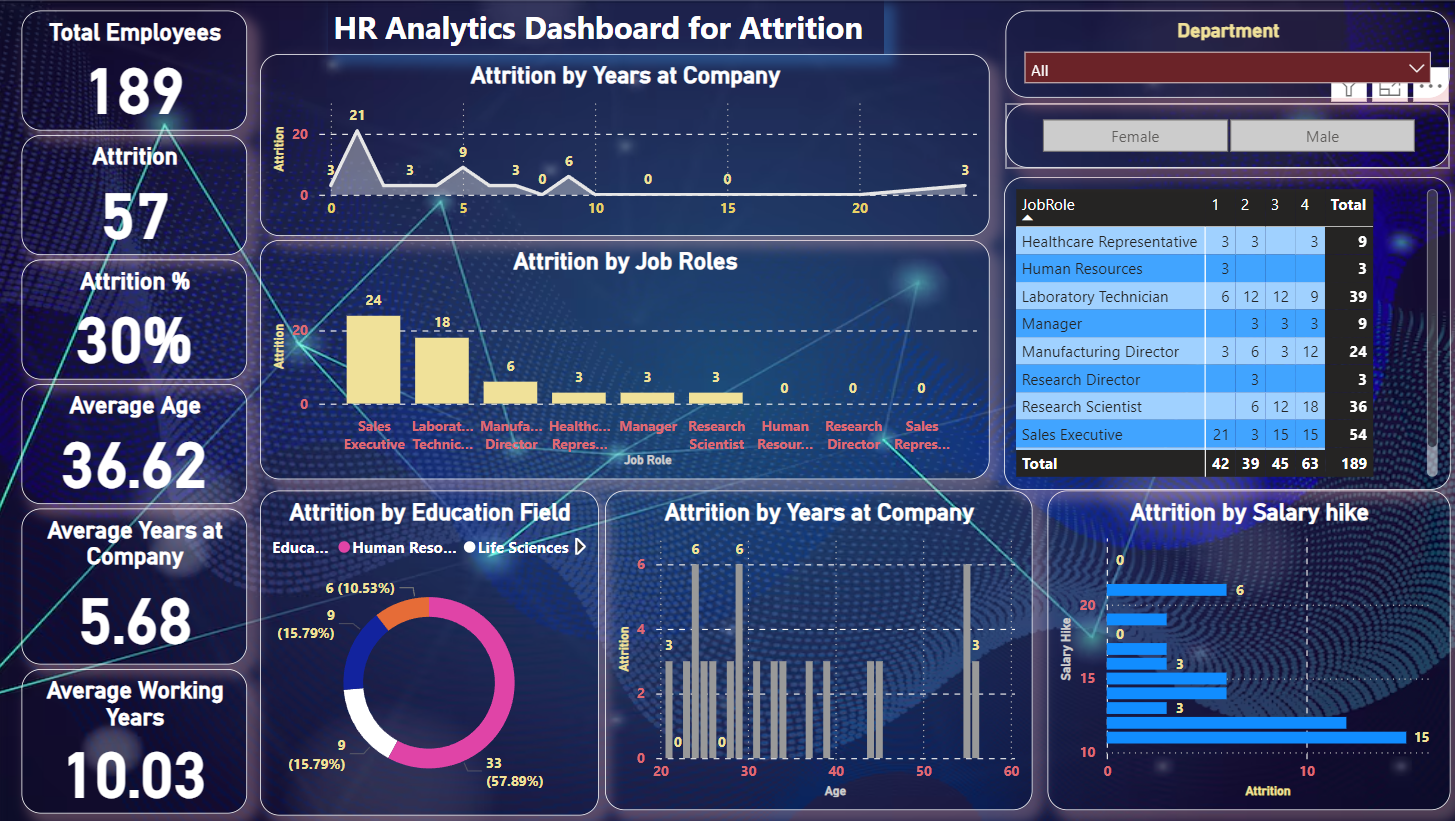

What the dashboard file says about the page in this screenshot:
{"tool":"powerbi","page":{"name":"Page 1","canvas":[1280,720],"ordinal":0},"visuals":[{"type":"card","title":"Total Employees ","fields":{"Values":["Sum(CleanData.EmployeeCount)"]},"box":[22.7,9.1,196.8,104.5],"z":0},{"type":"card","title":"Attrition","fields":{"Values":["Sum(CleanData.attrition__)"]},"box":[22.7,117.5,196.8,104.5],"z":1000},{"type":"card","title":"Attrition %","fields":{"Values":["CleanData.Attrition percentage"]},"box":[22.7,225.9,196.8,104.5],"z":2000},{"type":"card","title":"Average Age","fields":{"Values":["Avg(CleanData.Age)"]},"box":[22.7,334.3,196.8,104.5],"z":3000},{"type":"card","title":"Average Years at Company","fields":{"Values":["Avg(CleanData.YearsAtCompany)"]},"box":[22.7,442.8,196.8,136.3],"z":4000},{"type":"card","title":"Average Working Years","fields":{"Values":["Avg(CleanData.TotalWorkingYears)"]},"box":[22.7,583,196.8,125.7],"z":5000},{"type":"donutChart","title":"Attrition by Education Field","fields":{"Y":["Sum(CleanData.attrition__)"],"Category":["CleanData.EducationField"]},"box":[230.2,427,295.3,283.2],"z":6000},{"type":"columnChart","title":"Attrition by Years at Company","fields":{"Y":["Sum(CleanData.attrition__)"],"Category":["CleanData.Age"]},"box":[531.5,427,372.5,278.6],"z":7000},{"type":"barChart","title":"Attrition by Salary hike","fields":{"Category":["CleanData.PercentSalaryHike"],"Y":["Sum(CleanData.attrition__)"]},"box":[916.1,427,351.3,278.6],"z":8000},{"type":"columnChart","title":"Attrition by Job Roles","fields":{"Y":["Sum(CleanData.attrition__)"],"Category":["CleanData.JobRole"]},"box":[230.2,209,636,209],"z":9000},{"type":"areaChart","title":"Attrition by Years at Company","fields":{"Y":["Sum(CleanData.attrition__)"],"Category":["CleanData.YearsAtCompany"]},"box":[230.2,46.9,636,159],"z":10000},{"type":"pivotTable","title":"Attrition by Salary hike","fields":{"Columns":["CleanData.JobSatisfaction"],"Rows":["CleanData.JobRole"],"Values":["Sum(CleanData.EmployeeCount)"]},"box":[878.2,154.4,389.2,272.6],"z":11000},{"type":"slicer","title":"Gender","fields":{"Values":["CleanData.Gender"]},"box":[879.8,90.9,387.6,56],"z":11001},{"type":"slicer","title":"Department ","fields":{"Values":["CleanData.Department"]},"box":[879.8,9.1,387.6,75.7],"z":11002},{"type":"textbox","box":[289.2,0,484.5,46.9],"z":11003}]}

Visuals, with their boxes in screenshot pixels (x1, y1, x2, y2), scaled from the page's 1280x720 canvas onto the 1455x821 screenshot:
"Total Employees " card: {"x1": 26, "y1": 10, "x2": 250, "y2": 130}
"Attrition" card: {"x1": 26, "y1": 134, "x2": 250, "y2": 253}
"Attrition %" card: {"x1": 26, "y1": 258, "x2": 250, "y2": 377}
"Average Age" card: {"x1": 26, "y1": 381, "x2": 250, "y2": 500}
"Average Years at Company" card: {"x1": 26, "y1": 505, "x2": 250, "y2": 660}
"Average Working Years" card: {"x1": 26, "y1": 665, "x2": 250, "y2": 808}
"Attrition by Education Field" donutChart: {"x1": 262, "y1": 487, "x2": 597, "y2": 810}
"Attrition by Years at Company" columnChart: {"x1": 604, "y1": 487, "x2": 1028, "y2": 805}
"Attrition by Salary hike" barChart: {"x1": 1041, "y1": 487, "x2": 1441, "y2": 805}
"Attrition by Job Roles" columnChart: {"x1": 262, "y1": 238, "x2": 985, "y2": 477}
"Attrition by Years at Company" areaChart: {"x1": 262, "y1": 53, "x2": 985, "y2": 235}
"Attrition by Salary hike" pivotTable: {"x1": 998, "y1": 176, "x2": 1441, "y2": 487}
"Gender" slicer: {"x1": 1000, "y1": 104, "x2": 1441, "y2": 168}
"Department " slicer: {"x1": 1000, "y1": 10, "x2": 1441, "y2": 97}
textbox: {"x1": 329, "y1": 0, "x2": 879, "y2": 53}
